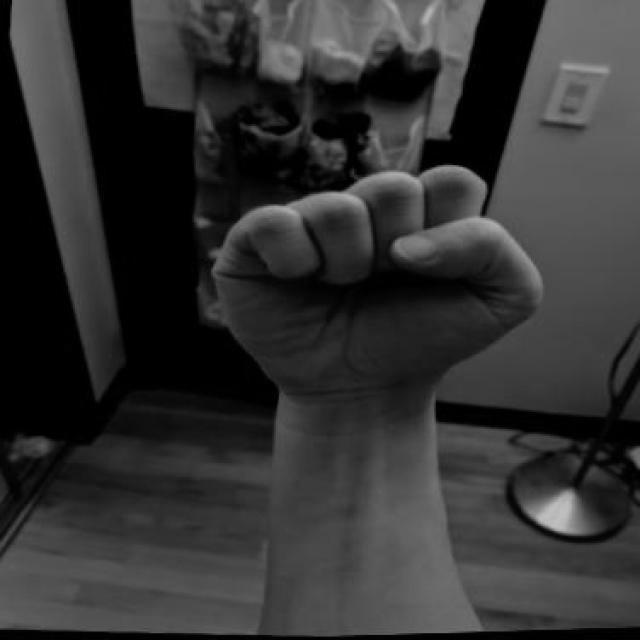S: (196, 144, 561, 421)
